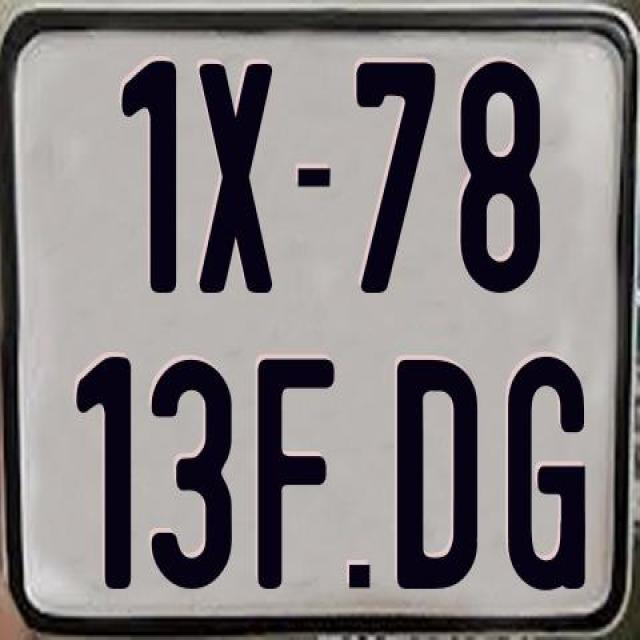1: (120, 60, 181, 298), (74, 355, 130, 595)
3: (151, 357, 237, 586)
7: (356, 59, 440, 296)
8: (458, 58, 542, 299)
D: (393, 360, 476, 598)
F: (258, 354, 342, 586)
G: (506, 352, 586, 587)
X: (196, 62, 270, 292)
